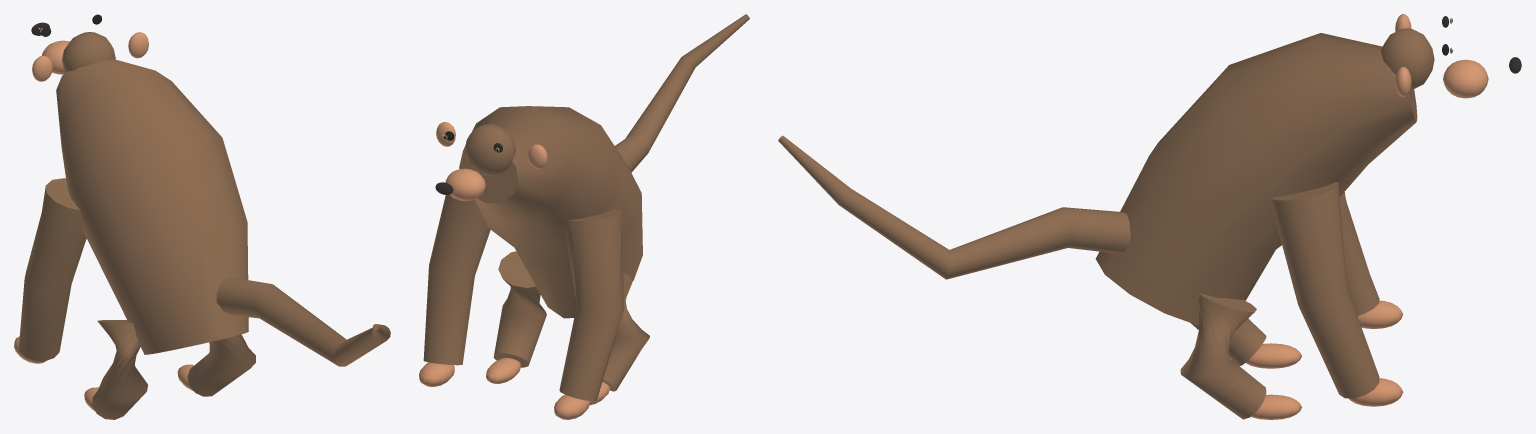
The model's file is monkey_hero.glb.
3 renders of one model, left to right at view 1: azimuth 30°, elevation 25°; view 2: azimuth 150°, elevation 25°; view 3: azimuth 270°, elevation 25°, orthographic. The views are drawn at different scales.
Visible parts, largest first — view 1: MonkeyOrganicBody, Arm_L, Tail, Leg_L, Leg_R, Head, Muzzle, EarDetail2, EarDetail; view 2: MonkeyOrganicBody, Arm_L, Arm_R, Leg_R, Tail, Leg_L, Head, Muzzle, PawHand_R, PawFoot_R, PawHand_L, EarDetail (+1 smaller); view 3: MonkeyOrganicBody, Arm_R, Tail, Leg_R, Arm_L, Head, Muzzle, Leg_L, PawFoot_L, PawFoot_R, PawHand_L, PawHand_R.
Part boxes in pixels (<box>): MonkeyOrganicBody: <box>56,59,248,354</box>; Arm_L: <box>19,178,86,361</box>; Tail: <box>216,278,390,366</box>; Leg_L: <box>92,320,147,419</box>; Leg_R: <box>187,334,255,396</box>; Head: <box>62,32,115,72</box>; Muzzle: <box>42,40,69,74</box>; EarDetail2: <box>128,32,148,58</box>; EarDetail: <box>32,55,52,81</box>; MonkeyOrganicBody: <box>459,106,642,318</box>; Arm_L: <box>559,209,624,401</box>; Arm_R: <box>423,194,490,365</box>; Leg_R: <box>493,251,546,367</box>; Tail: <box>615,14,749,172</box>; Leg_L: <box>602,273,649,391</box>; Head: <box>464,124,515,175</box>; Muzzle: <box>445,168,485,201</box>; PawHand_R: <box>419,362,454,386</box>; PawFoot_R: <box>486,357,520,383</box>; PawHand_L: <box>554,394,589,419</box>; EarDetail: <box>528,144,547,168</box>; MonkeyOrganicBody: <box>1095,33,1417,325</box>; Arm_R: <box>1271,182,1379,398</box>; Tail: <box>778,135,1130,279</box>; Leg_R: <box>1180,293,1266,419</box>; Arm_L: <box>1340,192,1379,316</box>; Head: <box>1381,28,1434,90</box>; Muzzle: <box>1443,59,1488,98</box>; Leg_L: <box>1191,318,1266,366</box>; PawFoot_L: <box>1245,343,1301,368</box>; PawFoot_R: <box>1251,394,1302,419</box>; PawHand_L: <box>1357,300,1403,328</box>; PawHand_R: <box>1348,378,1403,406</box>.
Size of the model in its own units: 1.41 by 2.17 by 4.05.
